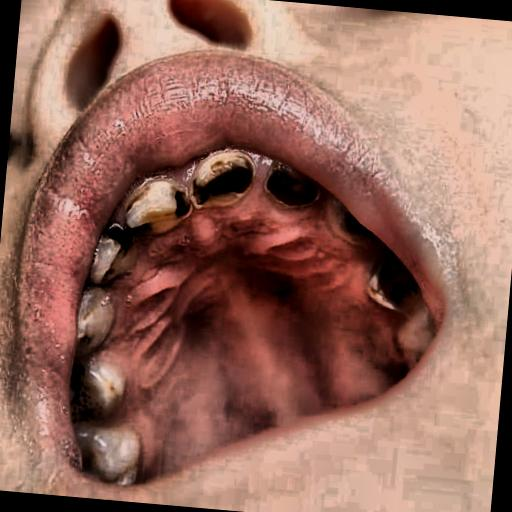Caries: (163, 116, 330, 230), (334, 191, 452, 337), (52, 334, 130, 464)
